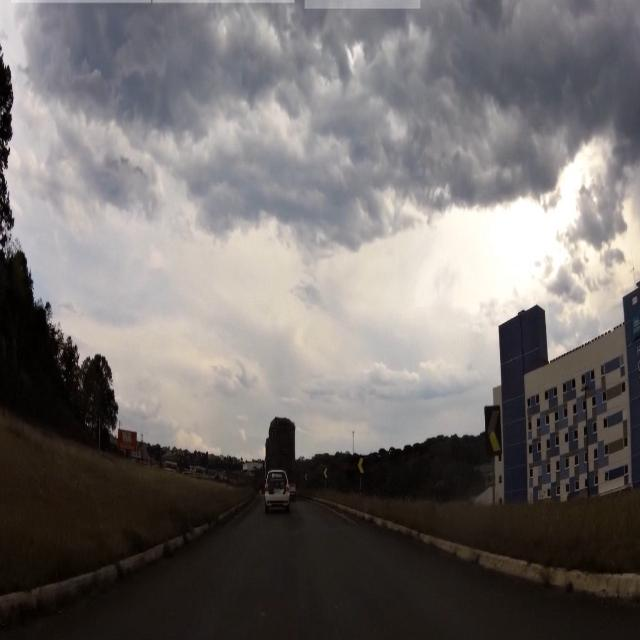Del: (482, 402, 503, 460), (357, 452, 365, 477)
